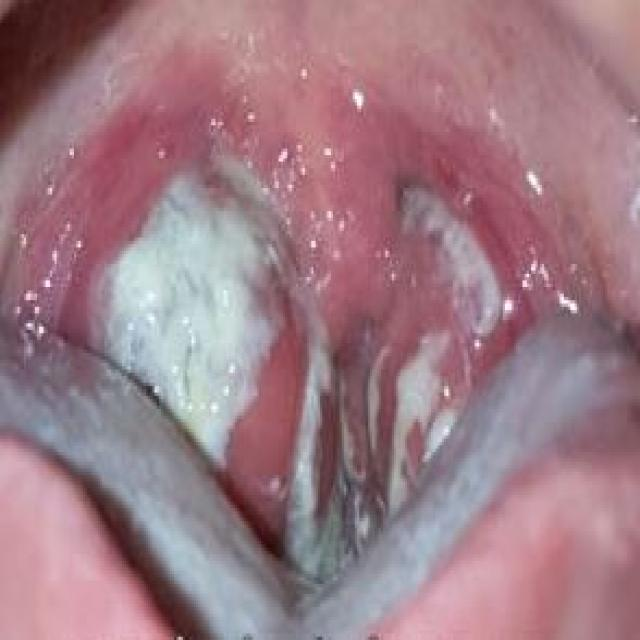pharyngitis: (65, 126, 337, 578), (342, 139, 576, 534)
